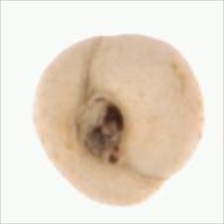L3: (74, 91, 127, 167)
L4: (32, 34, 205, 206)
